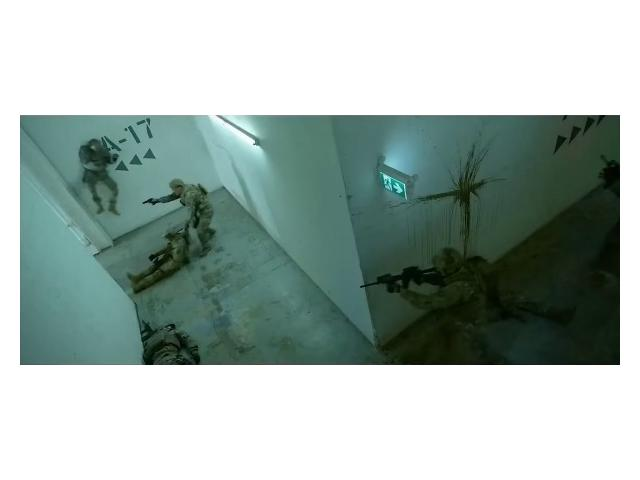pistol: (140, 196, 157, 208)
